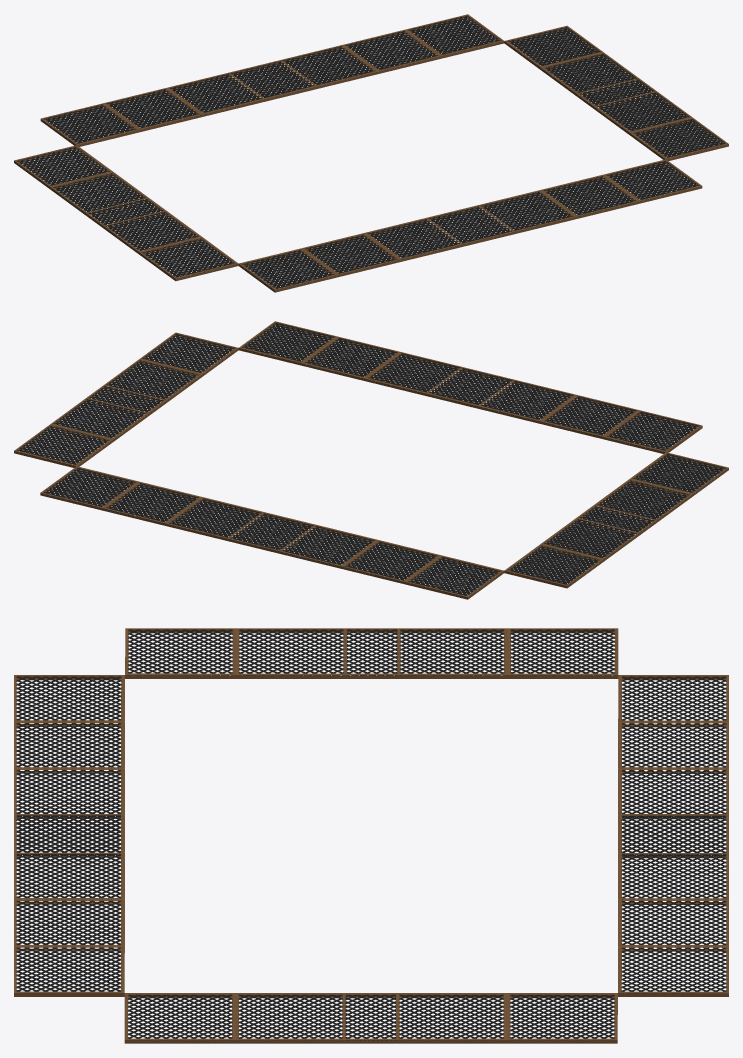
File: ironrailGroundArena.fbx
The picture shows the model from 3 angles, top to bottom: view 1: azimuth 30°, elevation 25°; view 2: azimuth 150°, elevation 25°; view 3: azimuth 270°, elevation 25°; orthographic projection. The views are drawn at different scales.
Parts seen in each view (by area): view 1: iron rail Ground1; view 2: iron rail Ground1; view 3: iron rail Ground1.
Part boxes in pixels (box(x1,y1,x2,y2)): iron rail Ground1: box(14, 14, 728, 292); iron rail Ground1: box(14, 321, 728, 599); iron rail Ground1: box(14, 628, 728, 1043).
Size of the model in its own units: 879 by 3.81 by 645.
